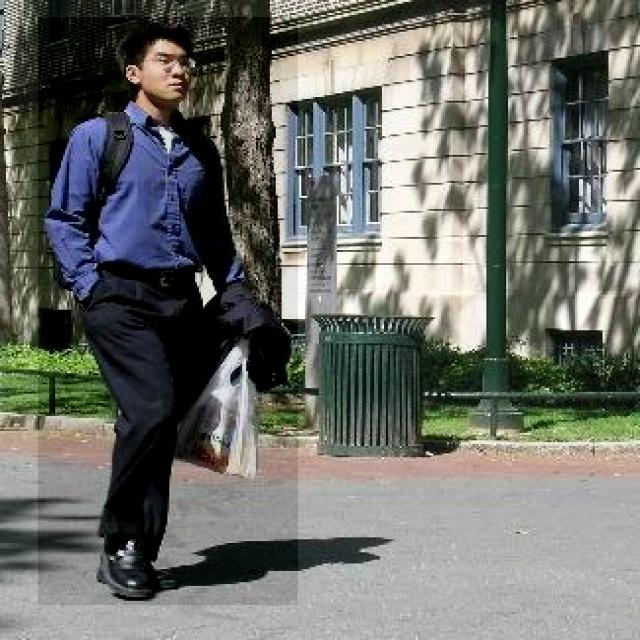with scooter: (38, 17, 298, 605)
